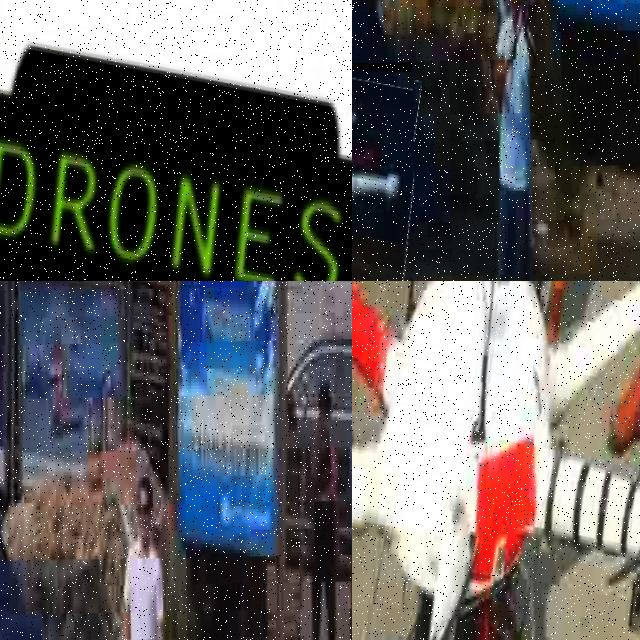drone: (352, 281, 640, 640), (0, 0, 352, 281), (352, 61, 416, 281)
